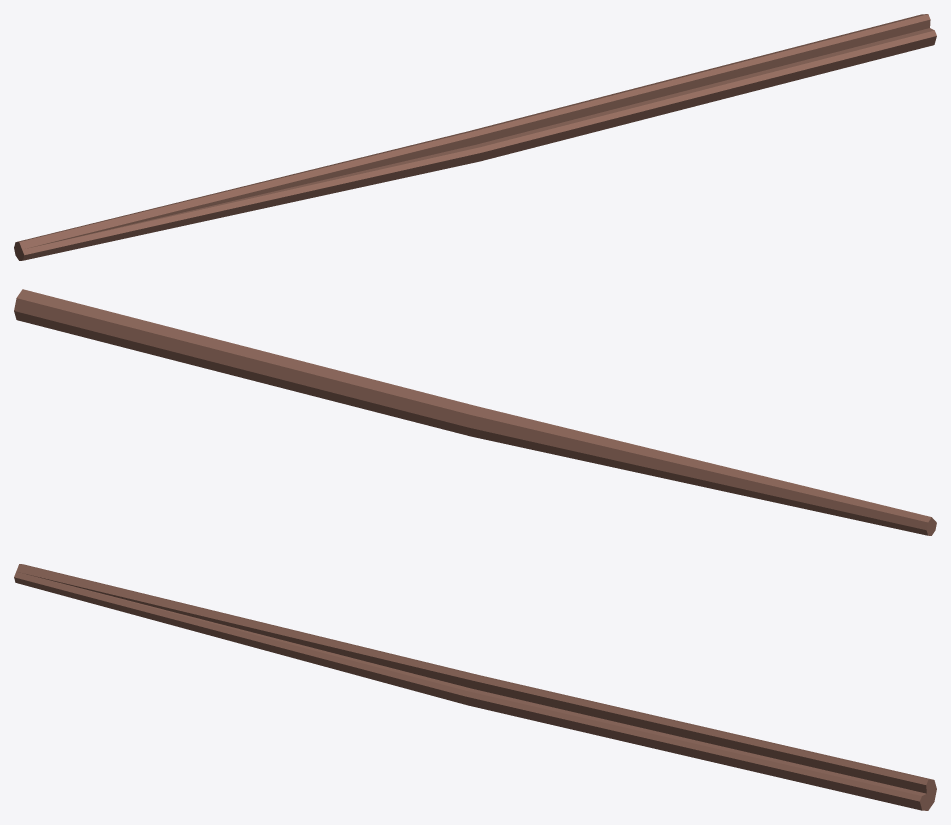
Rendered from SM_Spikes_07.fbx.
3 views of the same model, one above another, from view 1: azimuth 30°, elevation 25°; view 2: azimuth 150°, elevation 25°; view 3: azimuth 330°, elevation 25° (orthographic).
Parts seen in each view (by area): view 1: Spikes_07; view 2: Spikes_07; view 3: Spikes_07.
Part boxes in pixels (x1,y1,x2,y2): Spikes_07: (14, 14, 936, 260); Spikes_07: (14, 289, 936, 535); Spikes_07: (14, 564, 936, 810).
Bounding box in the file's own units: 90.05 × 3.47 × 2.94.
